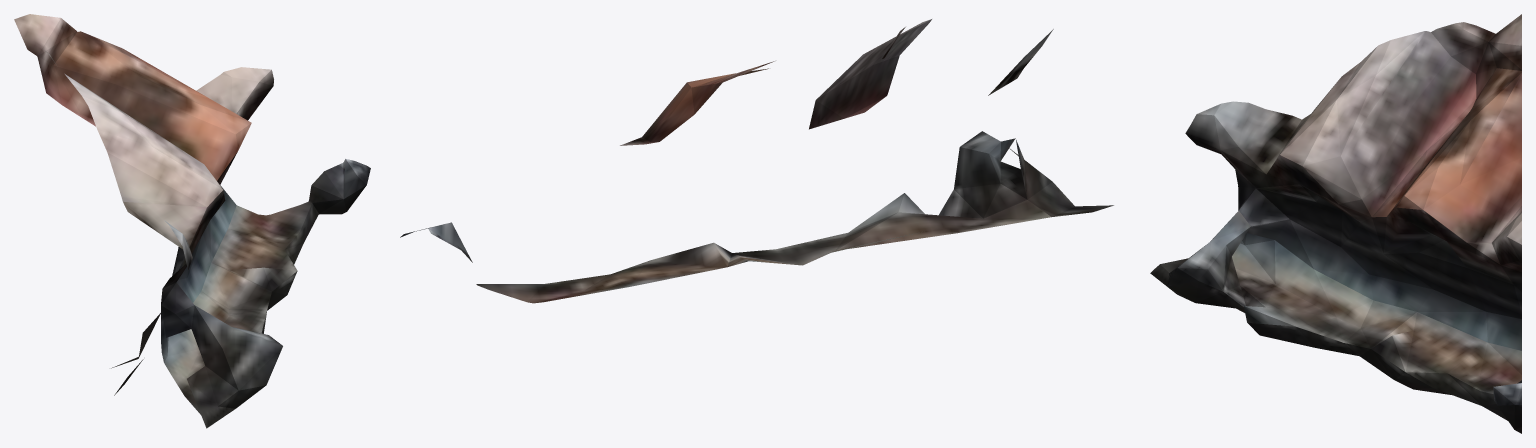
3 renders of one model, left to right at view 1: azimuth 30°, elevation 25°; view 2: azimuth 150°, elevation 25°; view 3: azimuth 270°, elevation 25°, orthographic. The views are drawn at different scales.
Size of the model in its own units: 0.5648 by 0.4888 by 0.5328.
1 material, 1 textured.
